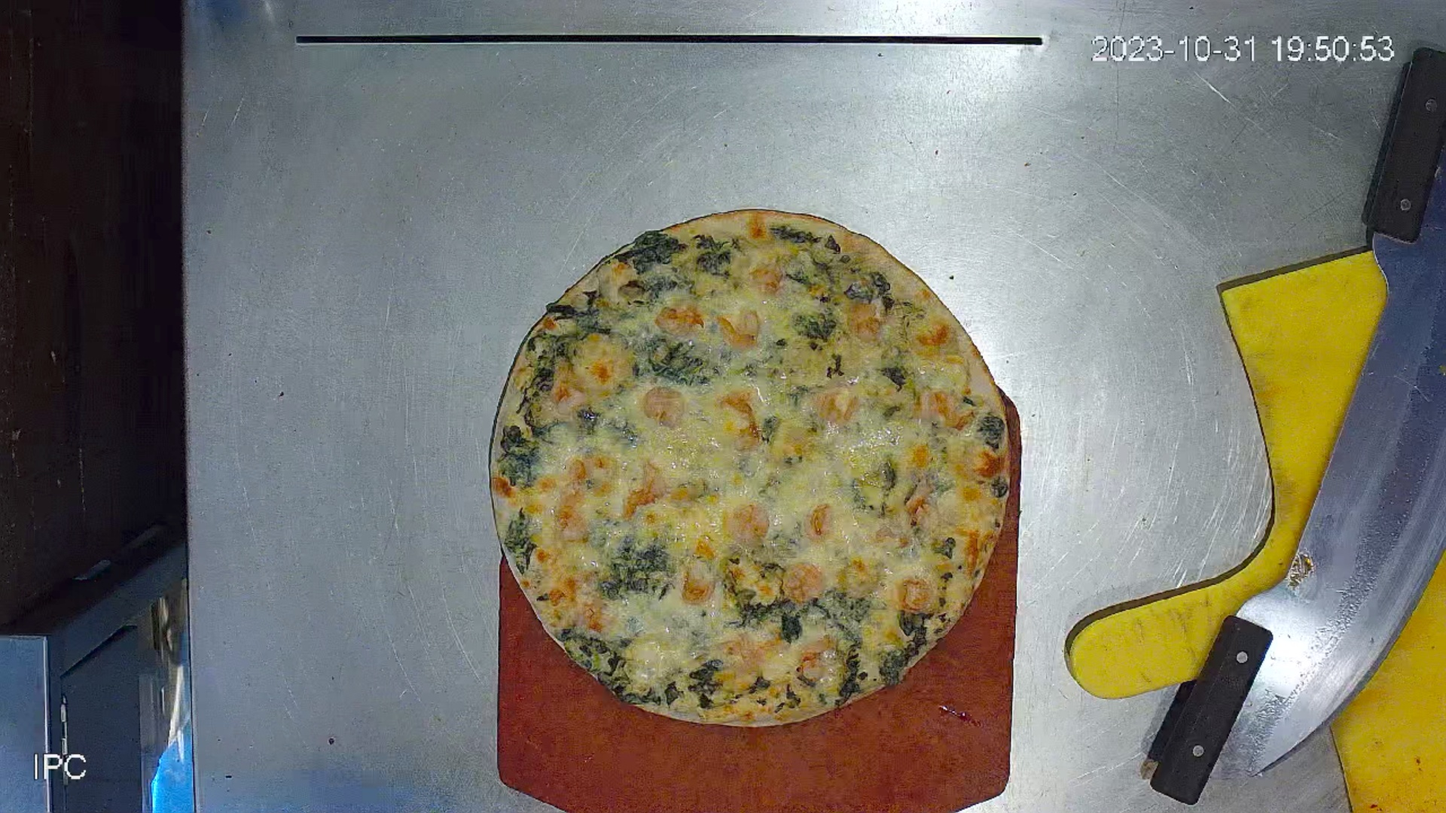pepporoni: (488, 206, 1009, 726)
